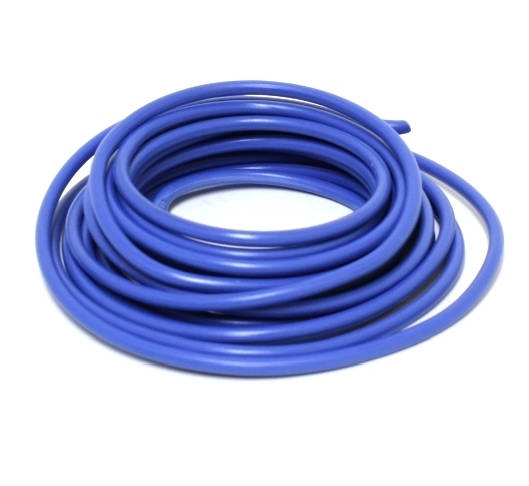Nonrec_Tangler: (27, 63, 513, 405)
